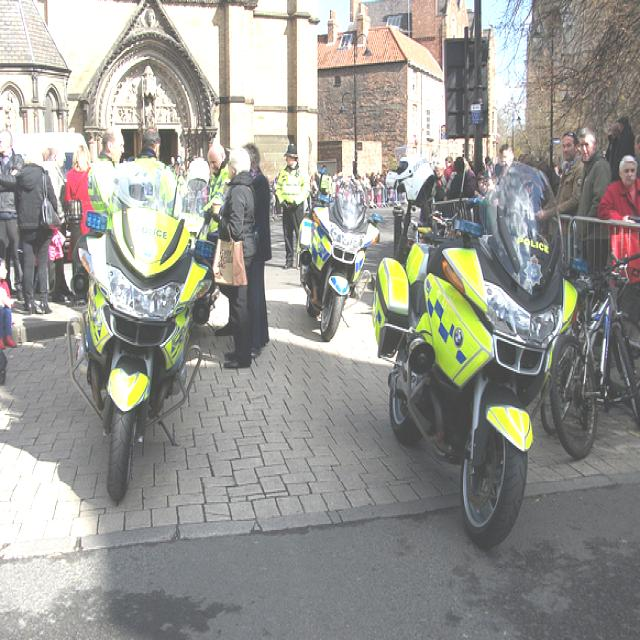Vehicle: (372, 166, 576, 552), (68, 161, 224, 505), (303, 184, 377, 339)
